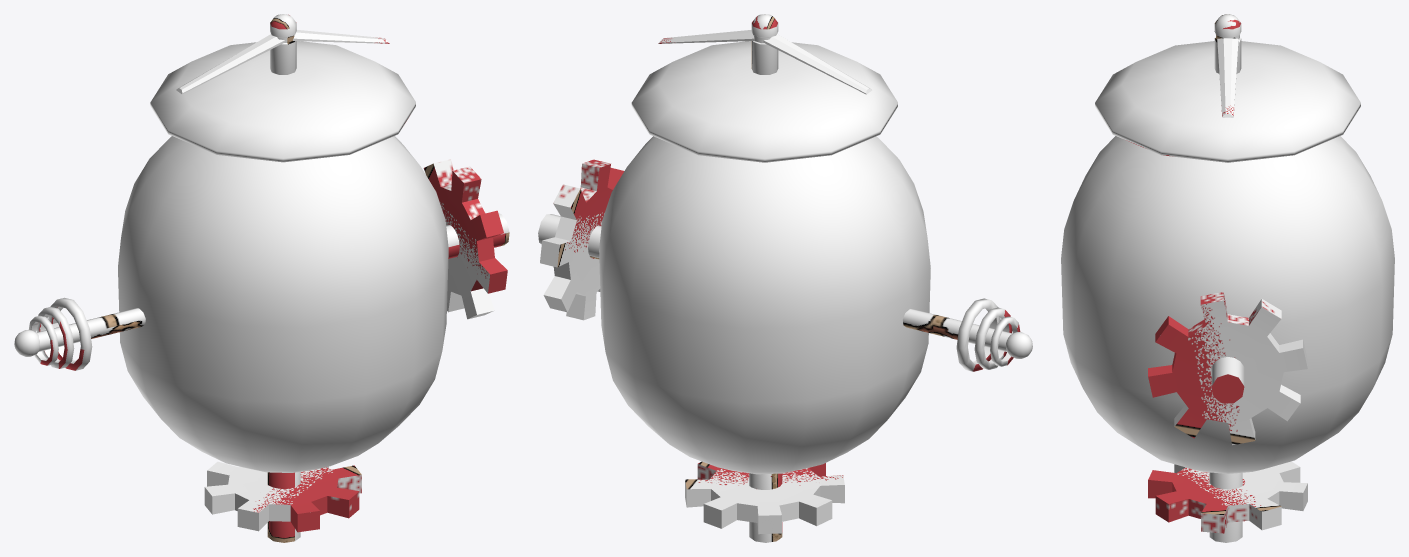
Rendered from vehicle_Asset.fbx.
3 renders of one model, left to right at view 1: azimuth 30°, elevation 25°; view 2: azimuth 150°, elevation 25°; view 3: azimuth 270°, elevation 25°, orthographic.
Visible parts, largest first — view 1: core, disk, bottom_cog, back_cog, Tesla, propellar, front_beam, antenna, bottom_beam, back_beam; view 2: core, disk, bottom_cog, back_cog, Tesla, propellar, front_beam, antenna, bottom_beam, back_beam, electric ball; view 3: core, disk, back_cog, bottom_cog, propellar, back_beam, bottom_beam, antenna.
Boxes of the visible parts, left/top/right/bottom form: core: left=118, top=136, right=448, bottom=472; disk: left=150, top=41, right=415, bottom=162; bottom_cog: left=204, top=461, right=361, bottom=532; back_cog: left=423, top=159, right=507, bottom=319; Tesla: left=28, top=297, right=92, bottom=370; propellar: left=176, top=30, right=389, bottom=94; front_beam: left=37, top=308, right=145, bottom=351; antenna: left=270, top=14, right=296, bottom=74; bottom_beam: left=267, top=472, right=300, bottom=542; back_beam: left=446, top=213, right=509, bottom=258; core: left=599, top=136, right=930, bottom=474; disk: left=631, top=41, right=897, bottom=162; bottom_cog: left=685, top=461, right=844, bottom=534; back_cog: left=540, top=159, right=624, bottom=320; Tesla: left=956, top=298, right=1020, bottom=371; propellar: left=658, top=30, right=872, bottom=94; front_beam: left=903, top=309, right=1012, bottom=351; antenna: left=751, top=14, right=778, bottom=74; bottom_beam: left=749, top=473, right=782, bottom=542; back_beam: left=538, top=214, right=601, bottom=259; electric ball: left=1006, top=332, right=1032, bottom=358; core: left=1061, top=136, right=1394, bottom=473; disk: left=1095, top=41, right=1360, bottom=162; back_cog: left=1148, top=292, right=1307, bottom=445; bottom_cog: left=1148, top=461, right=1307, bottom=533; propellar: left=1217, top=14, right=1238, bottom=117; back_beam: left=1211, top=357, right=1244, bottom=403; bottom_beam: left=1209, top=472, right=1242, bottom=542; antenna: left=1214, top=14, right=1241, bottom=73.
Bounding box in the file's own units: 291 × 298 × 174.
